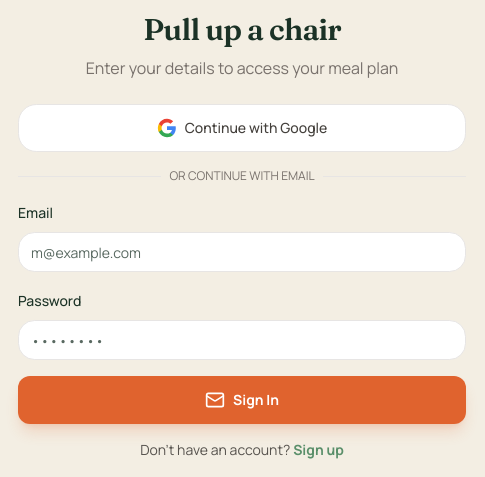
Test: AuthForm › toggles back to login form
This screenshot has width=485, height=477.
Step 1. Click the button "Sign up" → [318, 450], box [293,440,344,460]
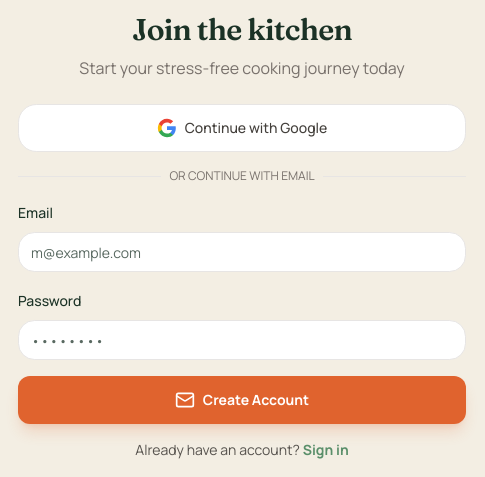
Step 2. Click the button "Sign in" → [326, 450], box [303,440,349,460]
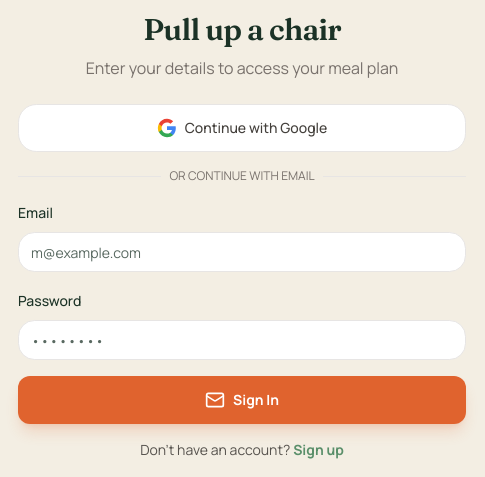
Expected: the heading "Pull up a chair" is shown, [143,11,341,48]
